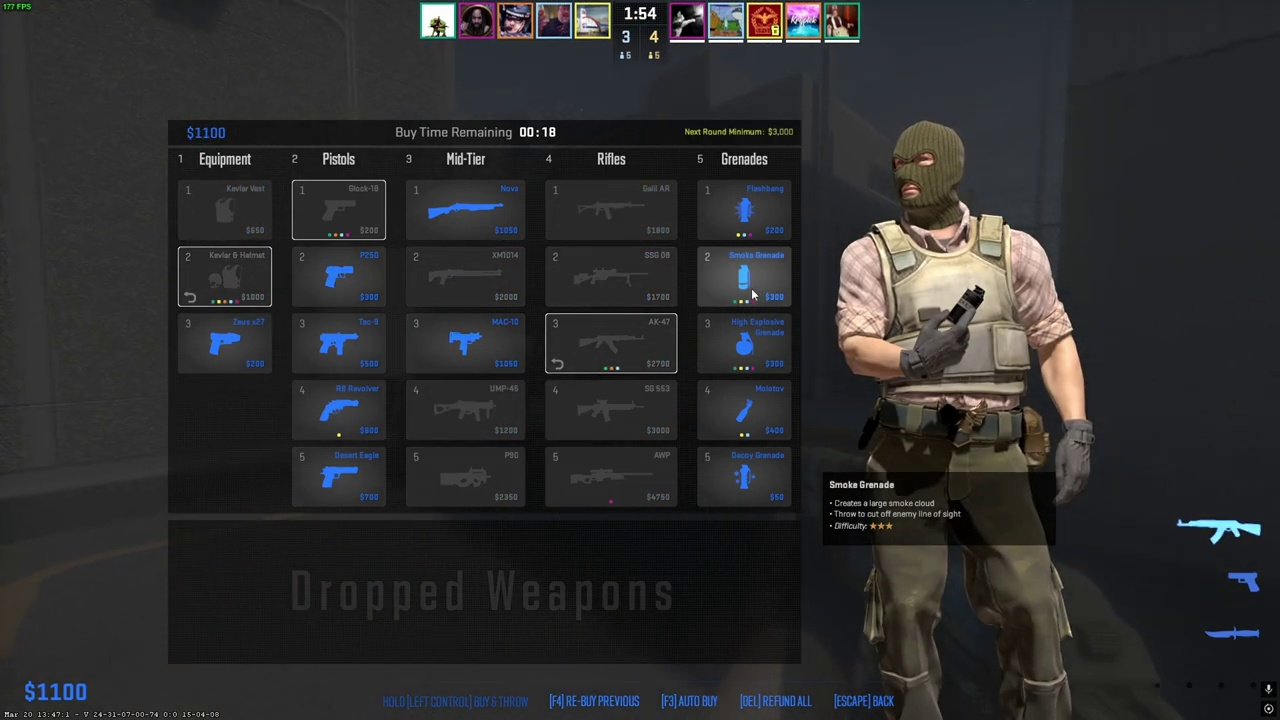Terrorist: (849, 121, 1077, 720)
